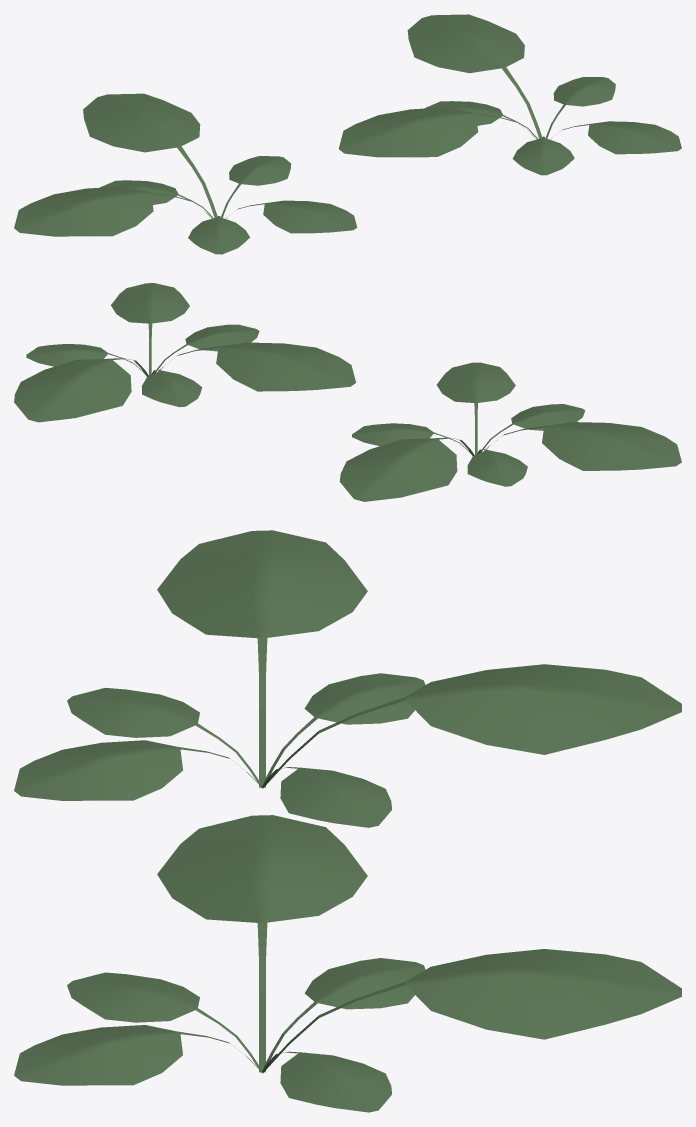
Rendered from Plant.fbx.
The picture shows the model from 3 angles, top to bottom: view 1: azimuth 30°, elevation 25°; view 2: azimuth 150°, elevation 25°; view 3: azimuth 270°, elevation 25°; orthographic projection. The views are drawn at different scales.
Visible parts, largest first — view 1: Plant2, pPlane53, pPlane54, pPlane55, pPlane58, pPlane56, pPlane57; view 2: Plant2, pPlane54, pPlane53, pPlane55, pPlane57, pPlane56, pPlane58; view 3: Plant2, pPlane53, pPlane54, pPlane55, pPlane56, pPlane58, pPlane57.
Boxes of the visible parts, x1,y1,x2,y2 form: Plant2: (338,14,681,175); pPlane53: (14,186,211,236); pPlane54: (83,93,217,217); pPlane55: (226,200,357,233); pPlane58: (221,156,291,217); pPlane56: (188,216,249,254); pPlane57: (100,180,213,218); Plant2: (14,283,355,422); pPlane54: (339,437,474,501); pPlane53: (484,422,681,470); pPlane55: (436,362,515,454); pPlane57: (467,449,527,486); pPlane56: (480,404,585,452); pPlane58: (352,423,470,453); Plant2: (14,815,681,1112); pPlane53: (157,530,367,787); pPlane54: (262,664,681,788); pPlane55: (14,740,262,800); pPlane56: (67,687,261,788); pPlane58: (261,767,391,827); pPlane57: (263,673,425,783).
Bounding box in the file's own units: 0.1622 × 0.0141 × 0.0841.
